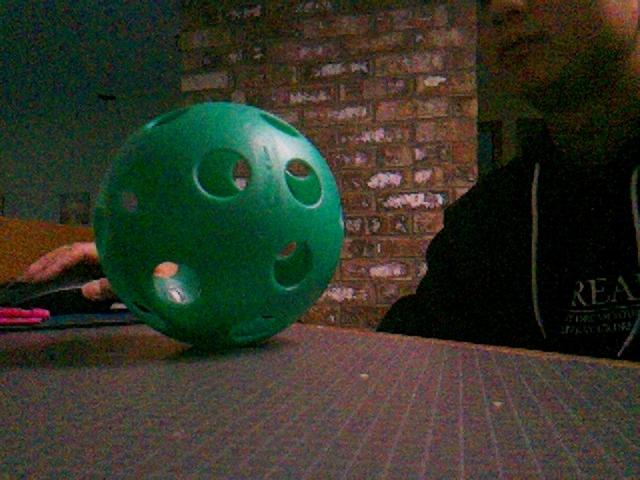Green: (90, 98, 346, 352)
